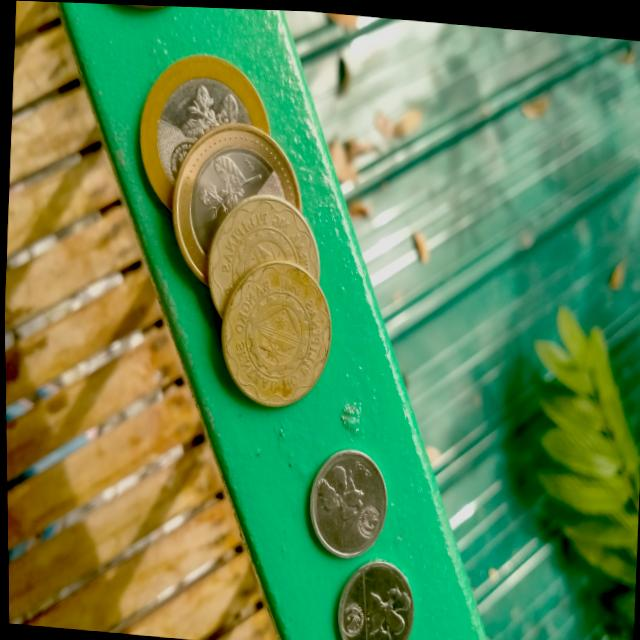20_New_Back: (140, 41, 268, 137), (187, 139, 289, 209)
25Cent_New_Back: (362, 579, 413, 639), (315, 460, 364, 521)
5_Old_Back: (221, 264, 335, 405), (215, 208, 325, 276)
